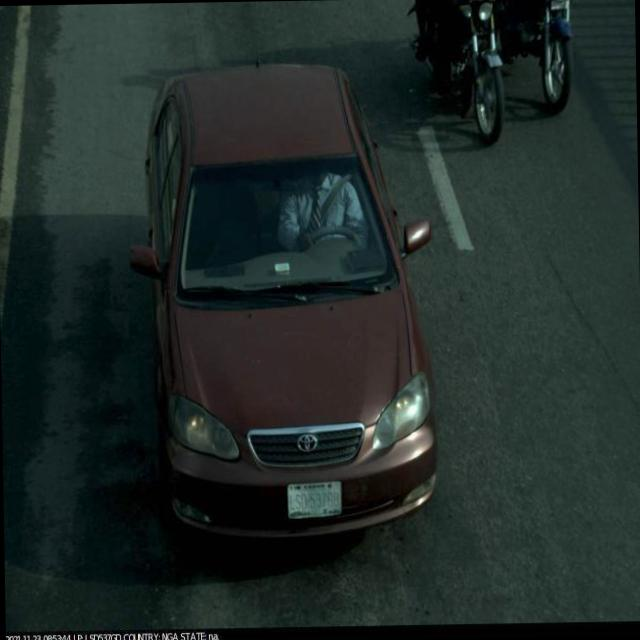person_with_seatbelt: (270, 152, 388, 295)
